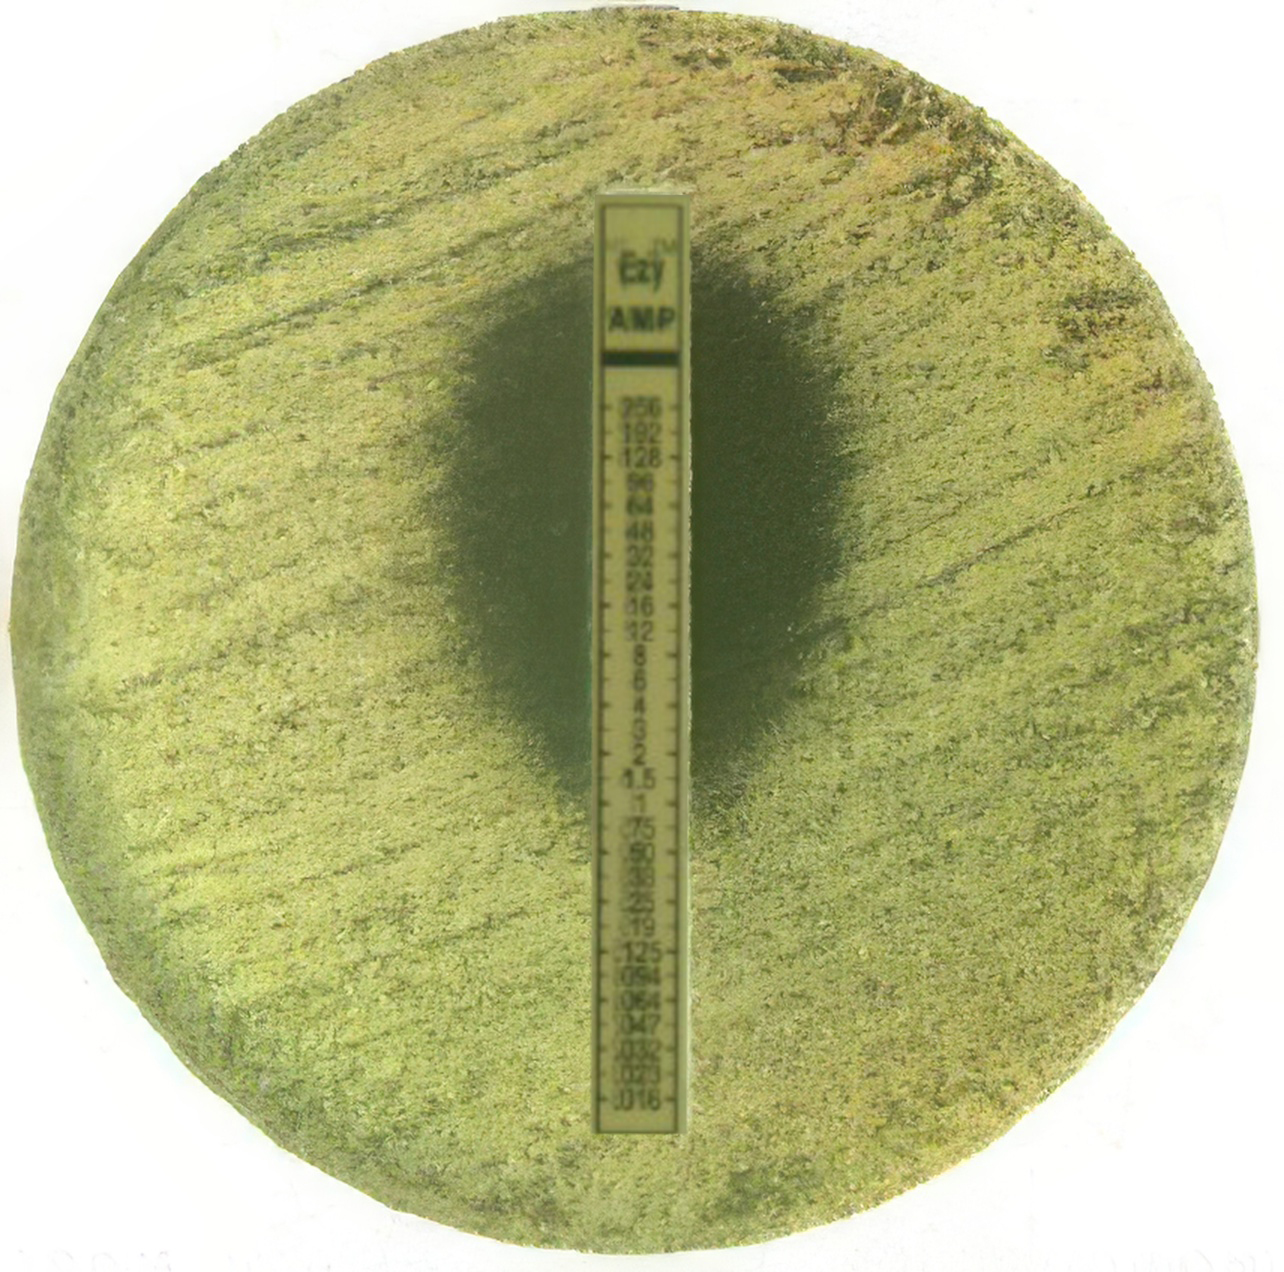line: (592, 193, 691, 1136)
zone: (446, 269, 837, 790)
